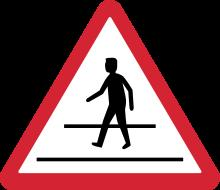Pedestrian Crossing: (22, 13, 201, 181)
